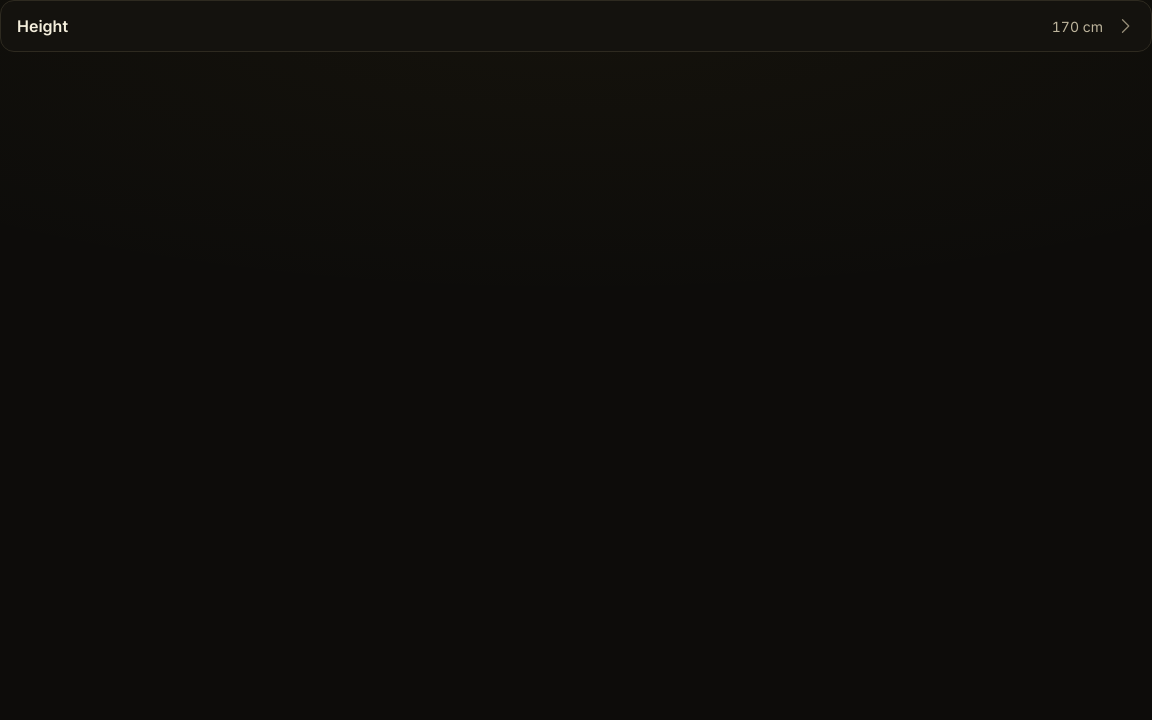
Test: NumberRow: wheel in Premium, stepper in Classic › premium opens a wheel and a "Use steppers instead" button; Done applies the wheel value
Later steps or results of the test are not shown.
Click the button "Height 170 cm". click: click(43, 26)
box: [0,0,1151,52]
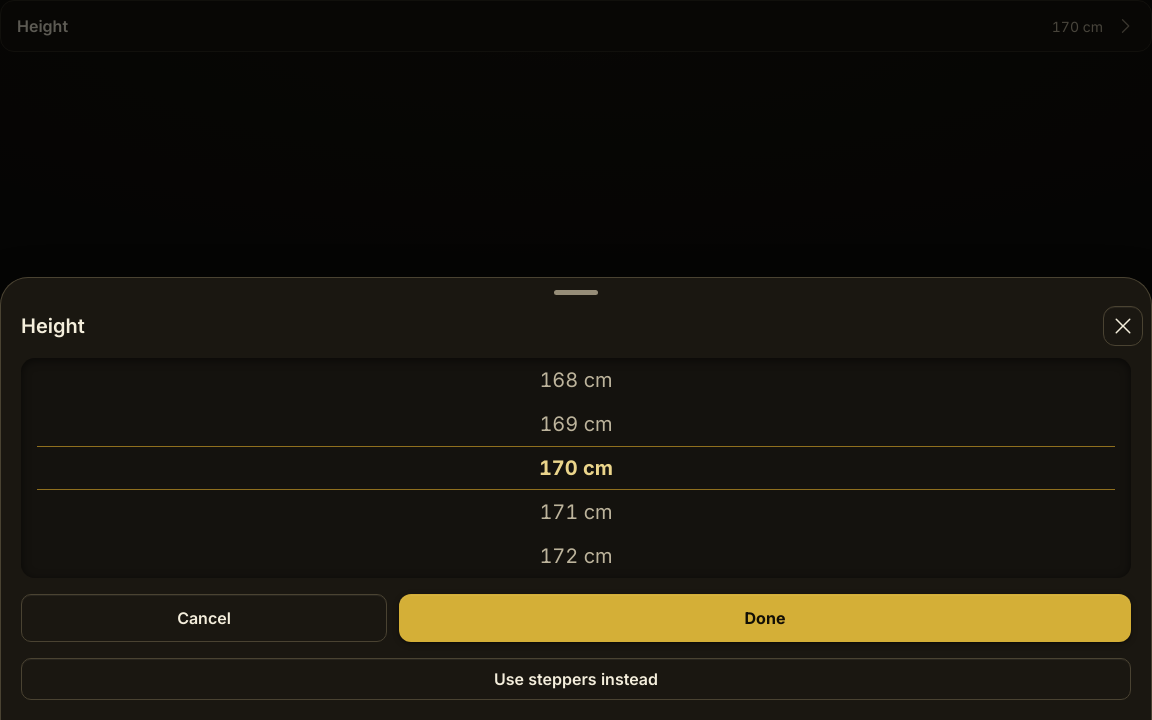
Now the number field named "Height" is shown, box [539,368,613,568]
Now the text "Use steppers instead" is shown, box [494,667,658,691]
